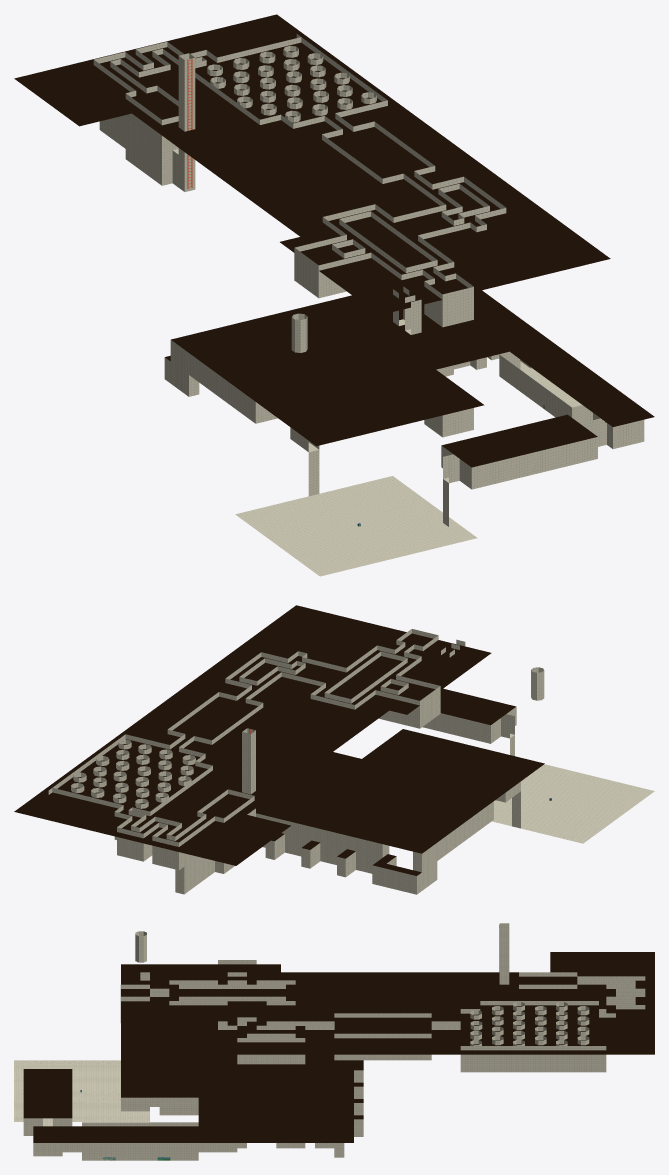
File: spider_maze2.glb
3 renders of one model, top to bottom at view 1: azimuth 30°, elevation 25°; view 2: azimuth 150°, elevation 25°; view 3: azimuth 270°, elevation 25°, orthographic. The views are drawn at different scales.
Visible parts, largest first — view 1: roofy, roof, spider_maze, aaaaaaaaa-colonly.001, level; view 2: roofy, roof, spider_maze, aaaaaaaaa-colonly.001, level, pilar; view 3: roofy, roof, spider_maze, aaaaaaaaa-colonly.001, level, pilar.
Boxes of the visible parts, <box> form: roofy: <box>14,14,610,315</box>; roof: <box>165,290,654,467</box>; spider_maze: <box>93,34,506,327</box>; aaaaaaaaa-colonly.001: <box>164,340,637,576</box>; level: <box>227,351,644,576</box>; roofy: <box>14,605,491,865</box>; roof: <box>256,688,544,875</box>; spider_maze: <box>48,629,440,894</box>; aaaaaaaaa-colonly.001: <box>256,710,654,894</box>; level: <box>265,706,654,894</box>; pilar: <box>531,667,544,700</box>; roofy: <box>121,952,654,1054</box>; roof: <box>23,1054,363,1142</box>; spider_maze: <box>120,923,645,1072</box>; aaaaaaaaa-colonly.001: <box>14,1060,354,1160</box>; level: <box>14,1062,363,1160</box>; pilar: <box>135,931,146,962</box>.
Size of what is drawn, in the model's own units: 34 by 23 by 66.
6 materials, 6 textured.
